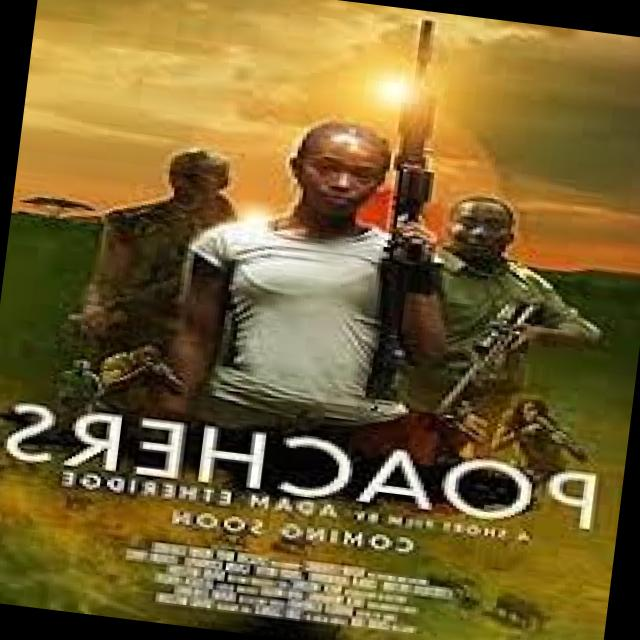poacher: (160, 98, 456, 434)
ranger: (379, 149, 610, 398)
weapon: (438, 268, 547, 432)
